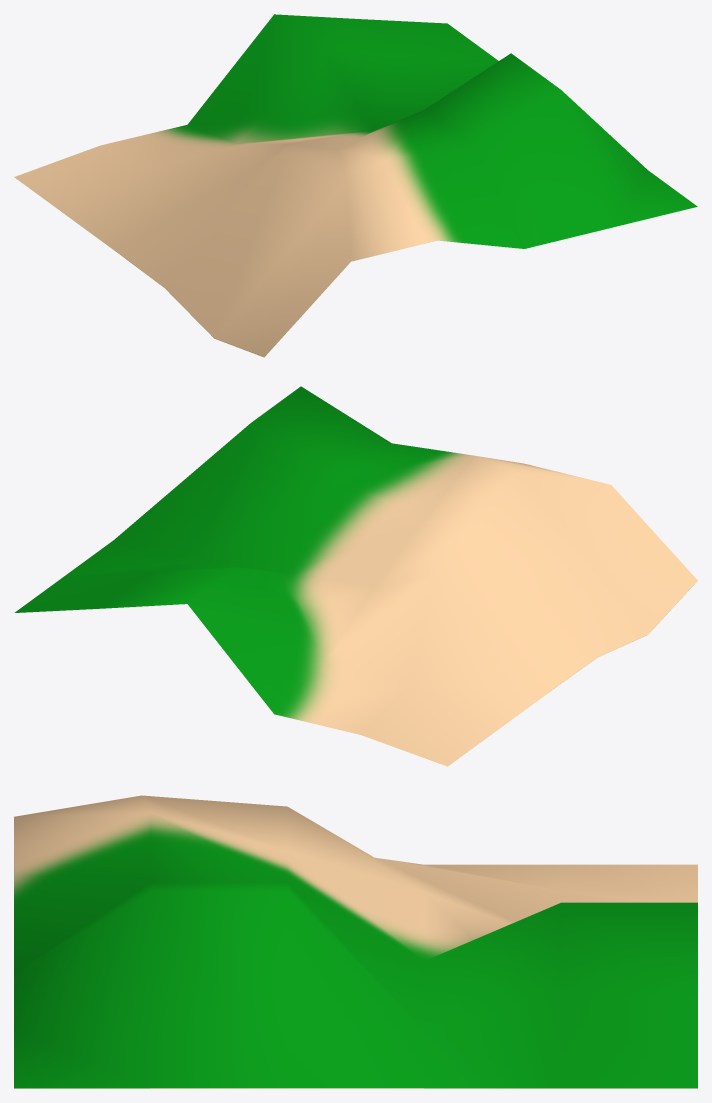
The model's file is BackFloor.fbx.
3 renders of one model, top to bottom at view 1: azimuth 30°, elevation 25°; view 2: azimuth 150°, elevation 25°; view 3: azimuth 270°, elevation 25°, orthographic. The views are drawn at different scales.
Parts seen in each view (by area): view 1: pPlane1; view 2: pPlane1; view 3: pPlane1.
Boxes of the visible parts, bbox=[...] form: pPlane1: bbox=[14, 14, 697, 357]; pPlane1: bbox=[14, 386, 697, 766]; pPlane1: bbox=[14, 795, 697, 1088].
Size of the model in its own units: 570 by 206 by 570.
Materials: 1 (1 with a texture image).
